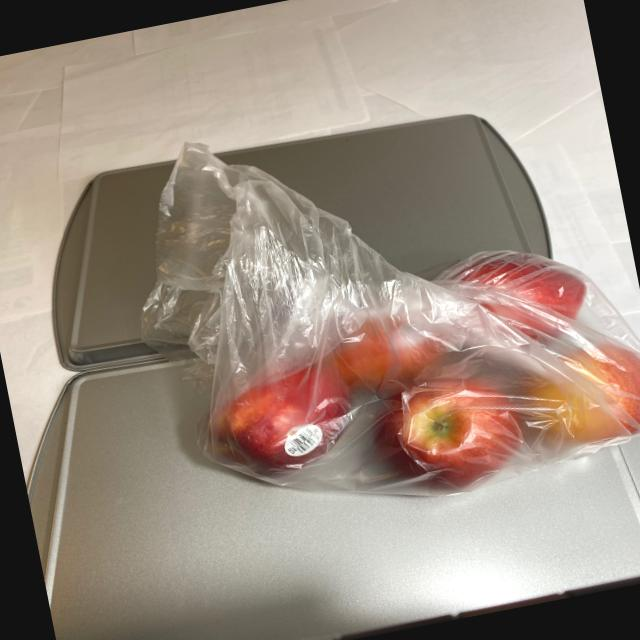apple: (171, 214, 640, 538)
